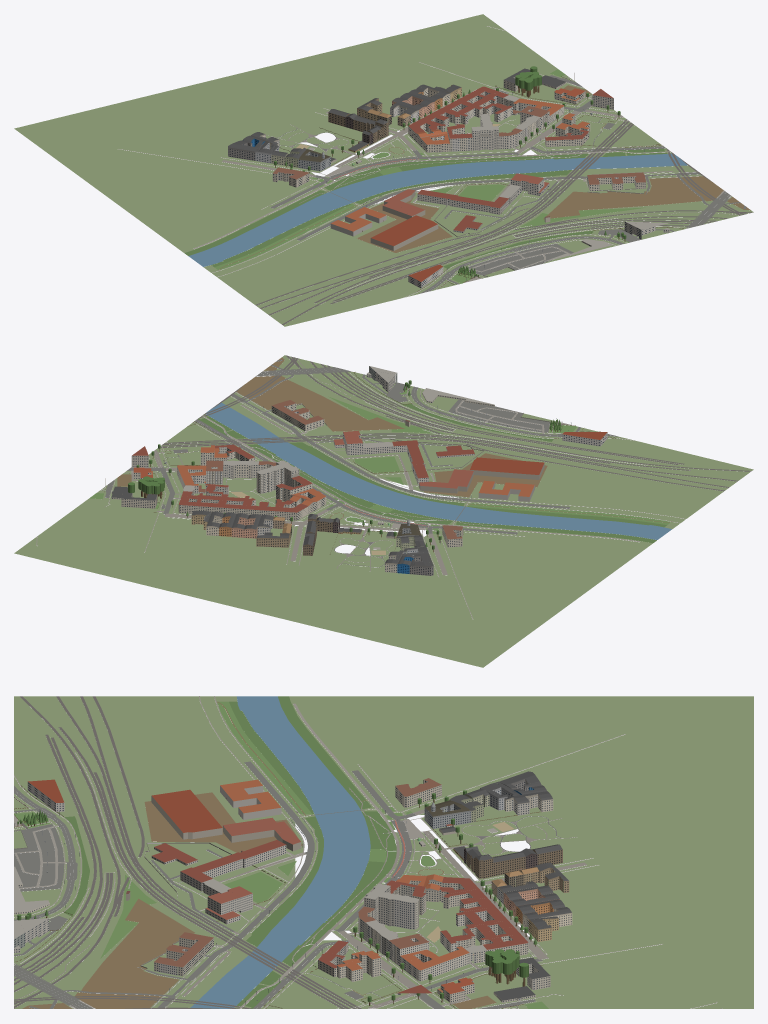
3 renders of one model, top to bottom at view 1: azimuth 30°, elevation 25°; view 2: azimuth 150°, elevation 25°; view 3: azimuth 270°, elevation 25°, orthographic. The views are drawn at different scales.
Size of the model in its own units: 750 by 31.12 by 750.
2 materials, 1 textured.
